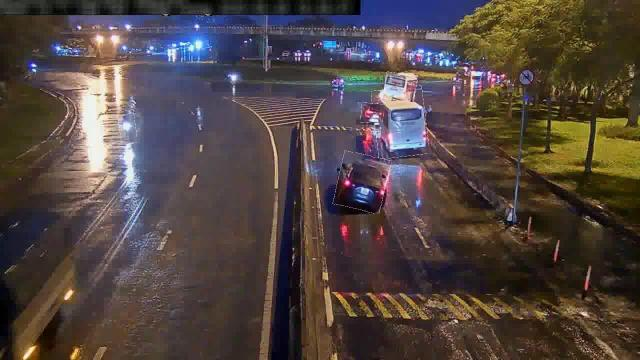Bike: (119, 111, 137, 145)
Bus: (372, 87, 428, 158), (384, 73, 416, 101)
Car: (336, 152, 388, 212), (361, 103, 384, 123)
